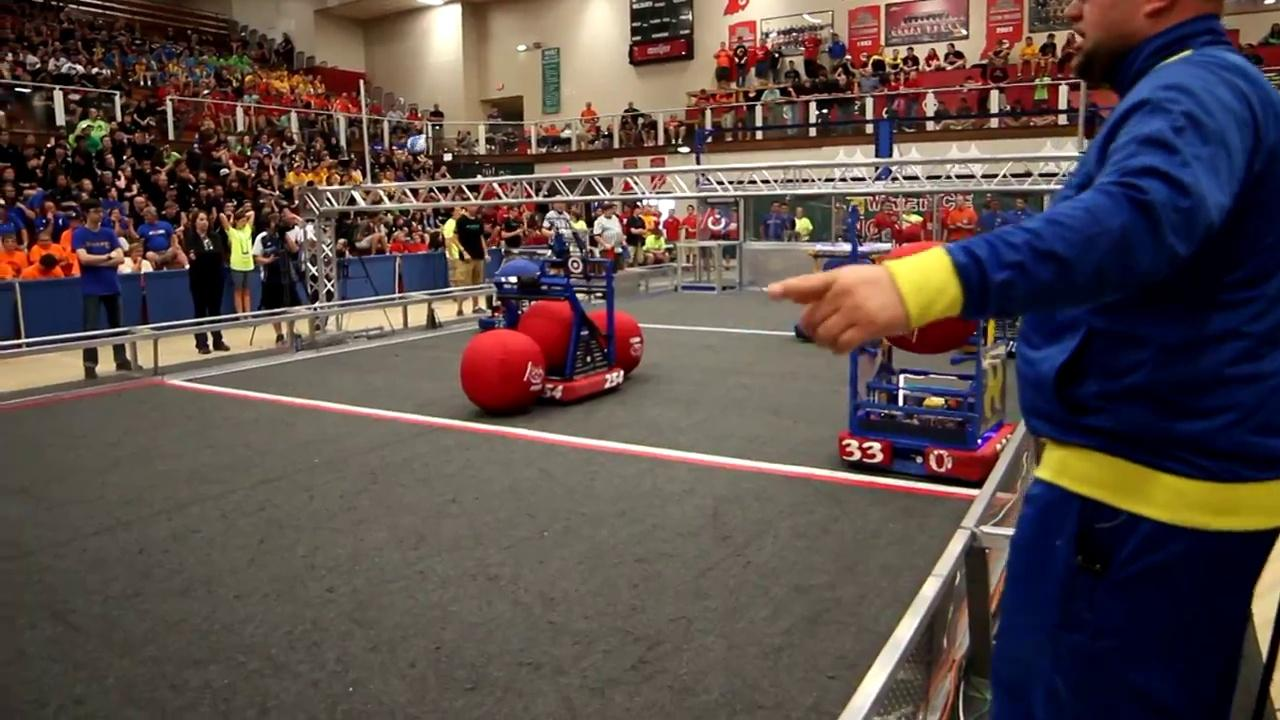robot: (824, 291, 1021, 481), (450, 259, 655, 411)
